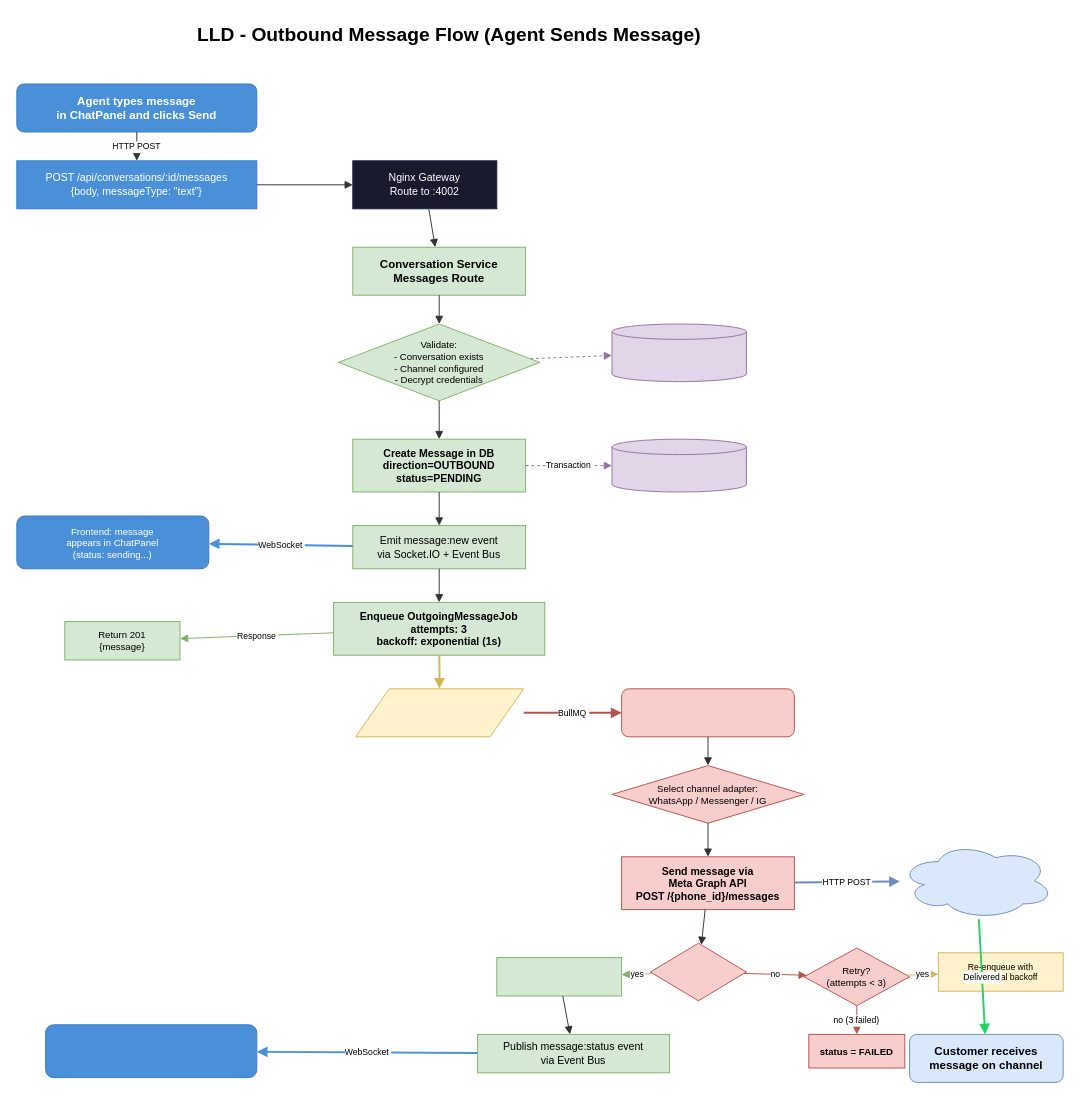
The diagram is 1080 pixels wide and 1099 high, and some of its shapes have lost their labels. The centre of each missing label's shape, as x and y in pixels:
"Frontend: message status updates (sent / delivered / read / failed)" goes at (x=151, y=1051).
"INSERT Message UPDATE conv .lastMessageAt" goes at (x=678, y=465).
"Meta Platform (Graph API)" goes at (x=976, y=880).
"Outgoing Worker consumes job" goes at (x=707, y=712).
"outgoing-messages queue (Redis)" goes at (x=439, y=712).
"SELECT Conversation + ChannelAccount + credentials" goes at (x=678, y=352).
"Success?" goes at (x=697, y=971).
"Update message status = SENT" goes at (x=559, y=976).
